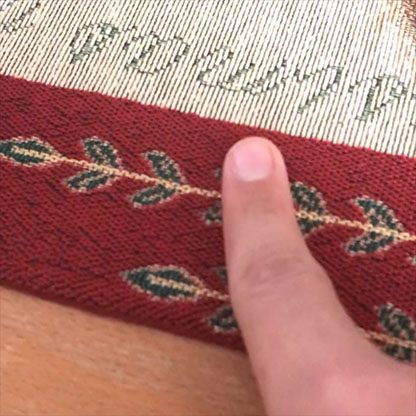fingertip: (217, 129, 306, 196)
